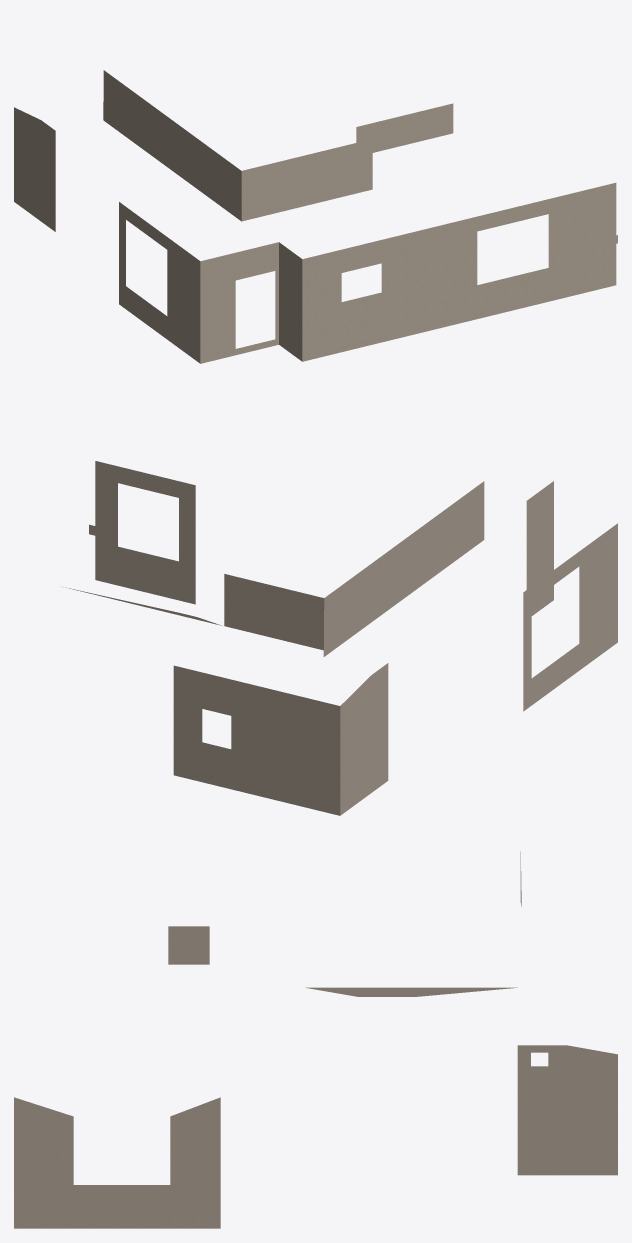
Rendered from kd_stage_135ded_4_144.glb.
3 views of the same model, one above another, from view 1: azimuth 30°, elevation 25°; view 2: azimuth 150°, elevation 25°; view 3: azimuth 270°, elevation 25° (orthographic). The views are drawn at different scales.
Parts seen in each view (by area): view 1: kd_stage_135ded_4_144; view 2: kd_stage_135ded_4_144; view 3: kd_stage_135ded_4_144.
Boxes of the visible parts, x1=… form: kd_stage_135ded_4_144: x1=14, y1=70, x2=617, y2=363; kd_stage_135ded_4_144: x1=62, y1=461, x2=617, y2=815; kd_stage_135ded_4_144: x1=14, y1=851, x2=617, y2=1228.
Size of the model in its own units: 10.46 by 3.54 by 10.3.
Materials: 1 (1 with a texture image).
